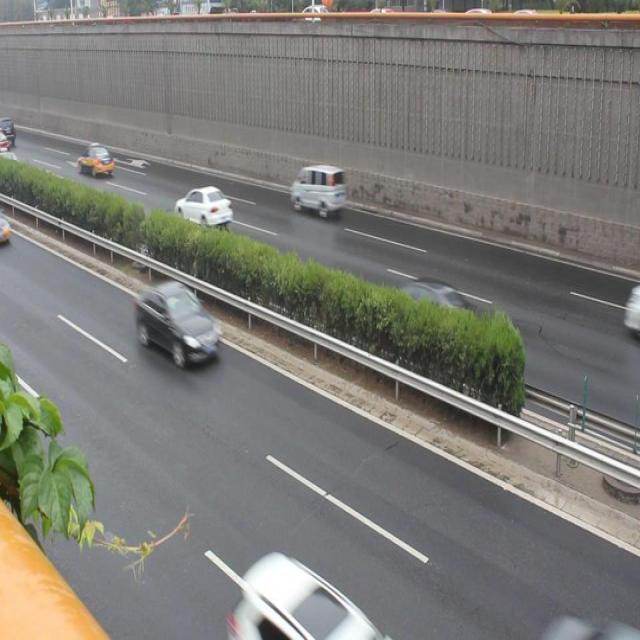car: (231, 548, 387, 640), (384, 268, 482, 352), (134, 276, 218, 369), (520, 591, 640, 640), (176, 180, 232, 234)
truck: (290, 158, 346, 218), (620, 277, 640, 337)
